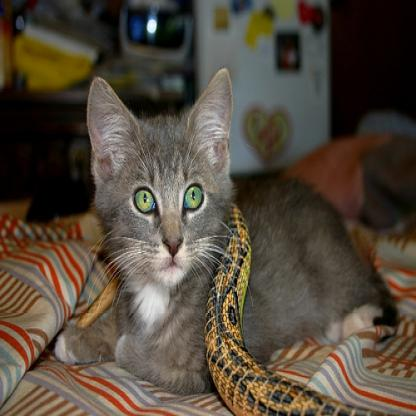cat: (54, 66, 399, 395)
